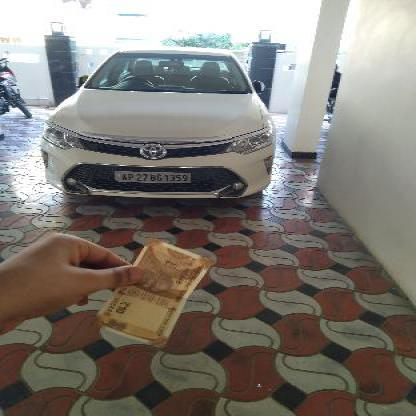New10Front: (104, 238, 204, 340)
